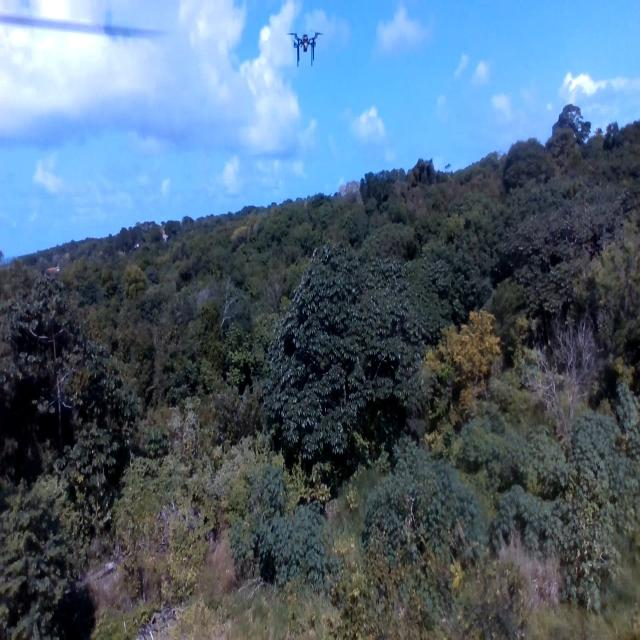-uav-: (281, 18, 324, 72)
